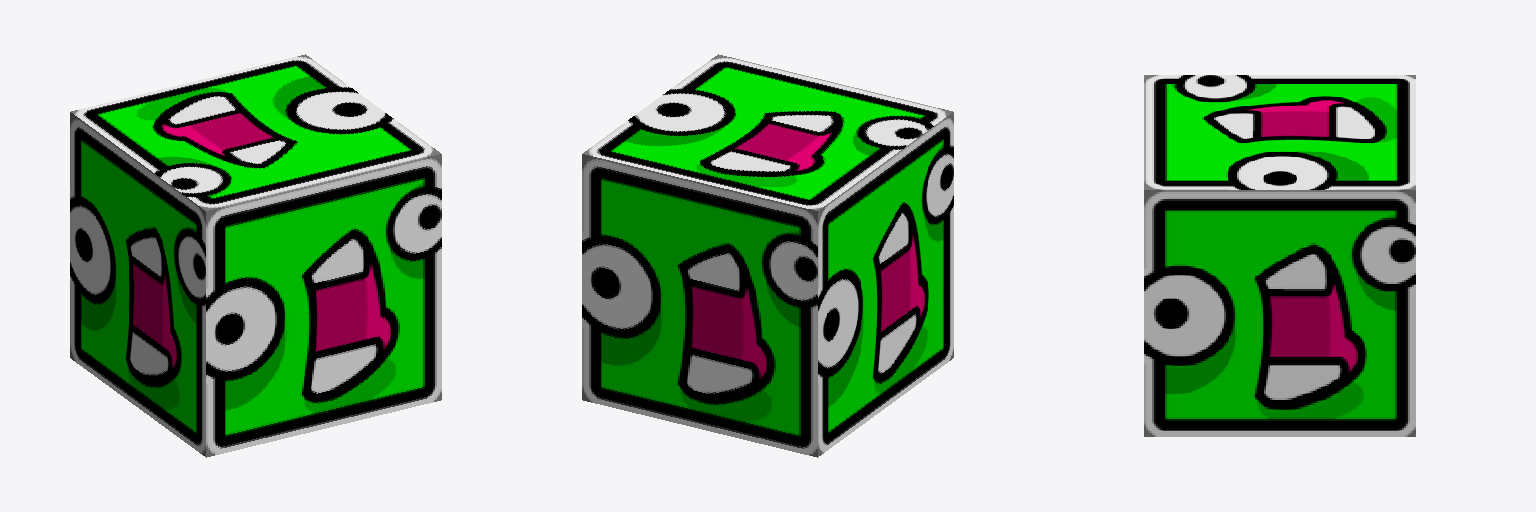
3 views of the same model, side by side, from view 1: azimuth 30°, elevation 25°; view 2: azimuth 150°, elevation 25°; view 3: azimuth 270°, elevation 25° (orthographic).
Visible parts, largest first — view 1: Cube; view 2: Cube; view 3: Cube.
Boxes of the visible parts, box(x1,y1,x2,y2) form: Cube: box(70, 54, 441, 457); Cube: box(582, 54, 953, 457); Cube: box(1144, 75, 1415, 436).
Bounding box in the file's own units: 2 × 2 × 2.
Materials: 1 (1 with a texture image).